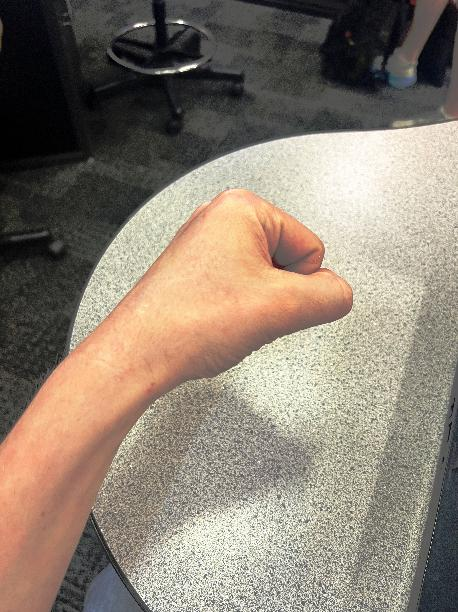Rock: (84, 154, 376, 440)
